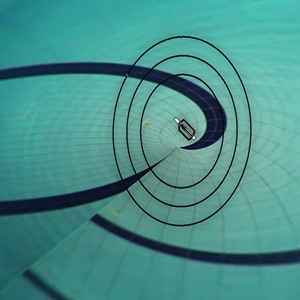circle: (95, 22, 256, 234)
submarine: (164, 109, 203, 148)
